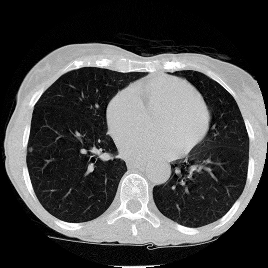nodule: (28, 147, 32, 151)
